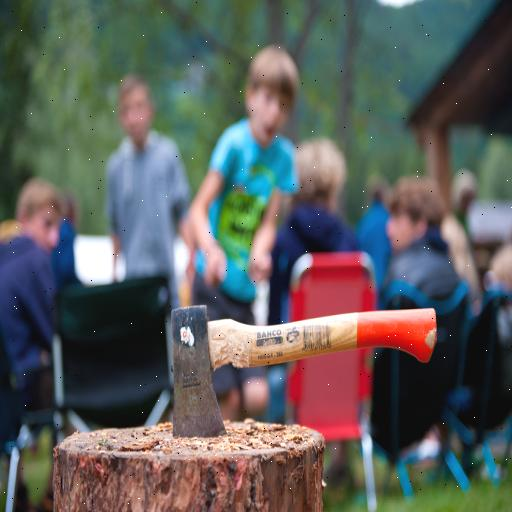Axe: (166, 273, 468, 422)
